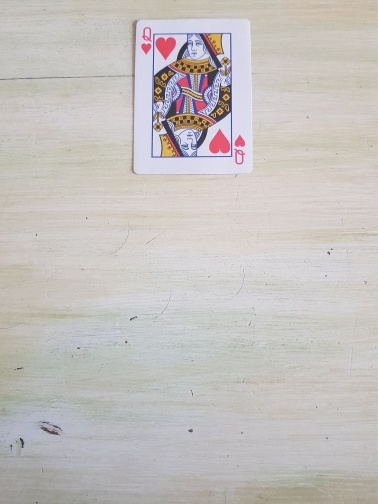queen: (133, 19, 254, 174)
